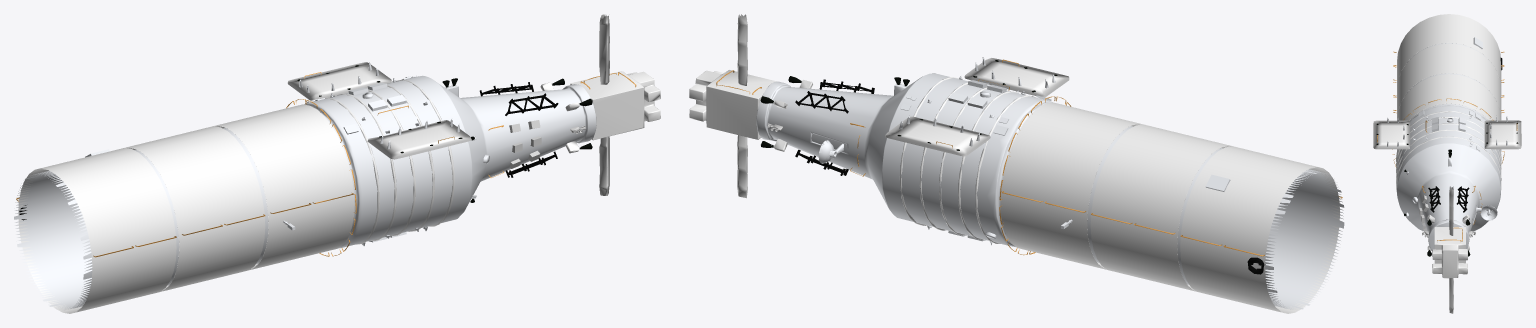
Rendered from tiangong-mengtian.glb.
3 views of the same model, side by side, from view 1: azimuth 30°, elevation 25°; view 2: azimuth 150°, elevation 25°; view 3: azimuth 270°, elevation 25° (orthographic). The views are drawn at different scales.
Visible parts, largest first — view 1: mengtian; view 2: mengtian; view 3: mengtian.
Part boxes in pixels (box(x1,y1,x2,y2)): mengtian: box(14, 14, 660, 313); mengtian: box(689, 14, 1344, 313); mengtian: box(1373, 14, 1521, 313).
Bounding box in the file's own units: 17.56 × 5.02 × 5.36.
1 material, 1 textured.
